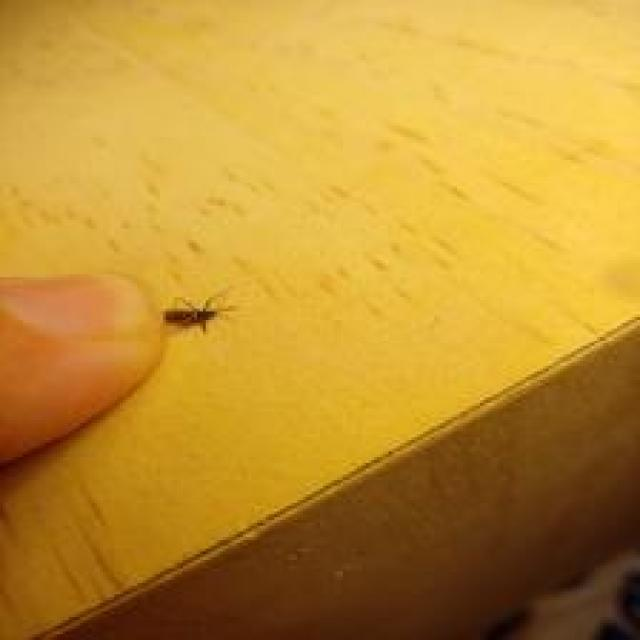Aedes albopictus: (161, 290, 236, 336)
